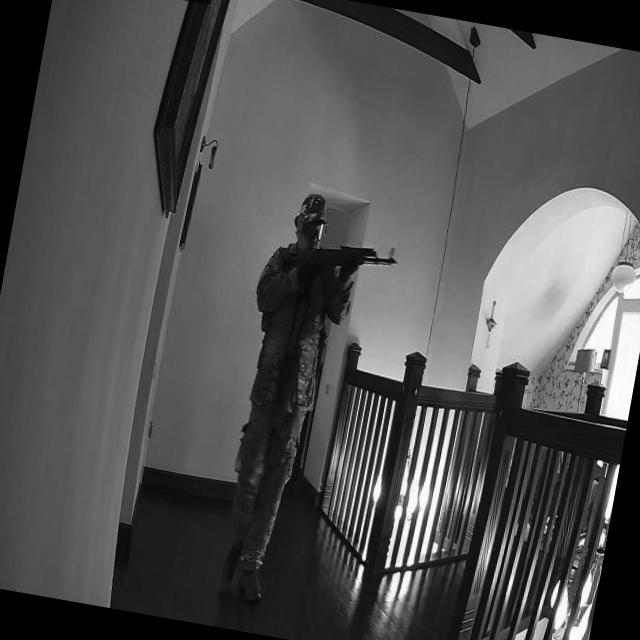gun: (284, 232, 399, 288)
person with a gun: (200, 184, 406, 622)
